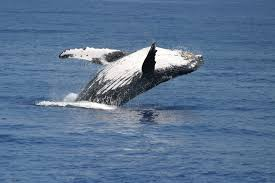humpback: (77, 49, 203, 103)
